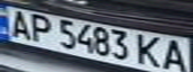3: (109, 28, 133, 62)
4: (72, 22, 93, 54)
5: (51, 18, 78, 50)
8: (90, 25, 112, 57)
A: (160, 37, 193, 72), (3, 8, 36, 39)
K: (133, 34, 166, 69)
P: (24, 11, 57, 44)
